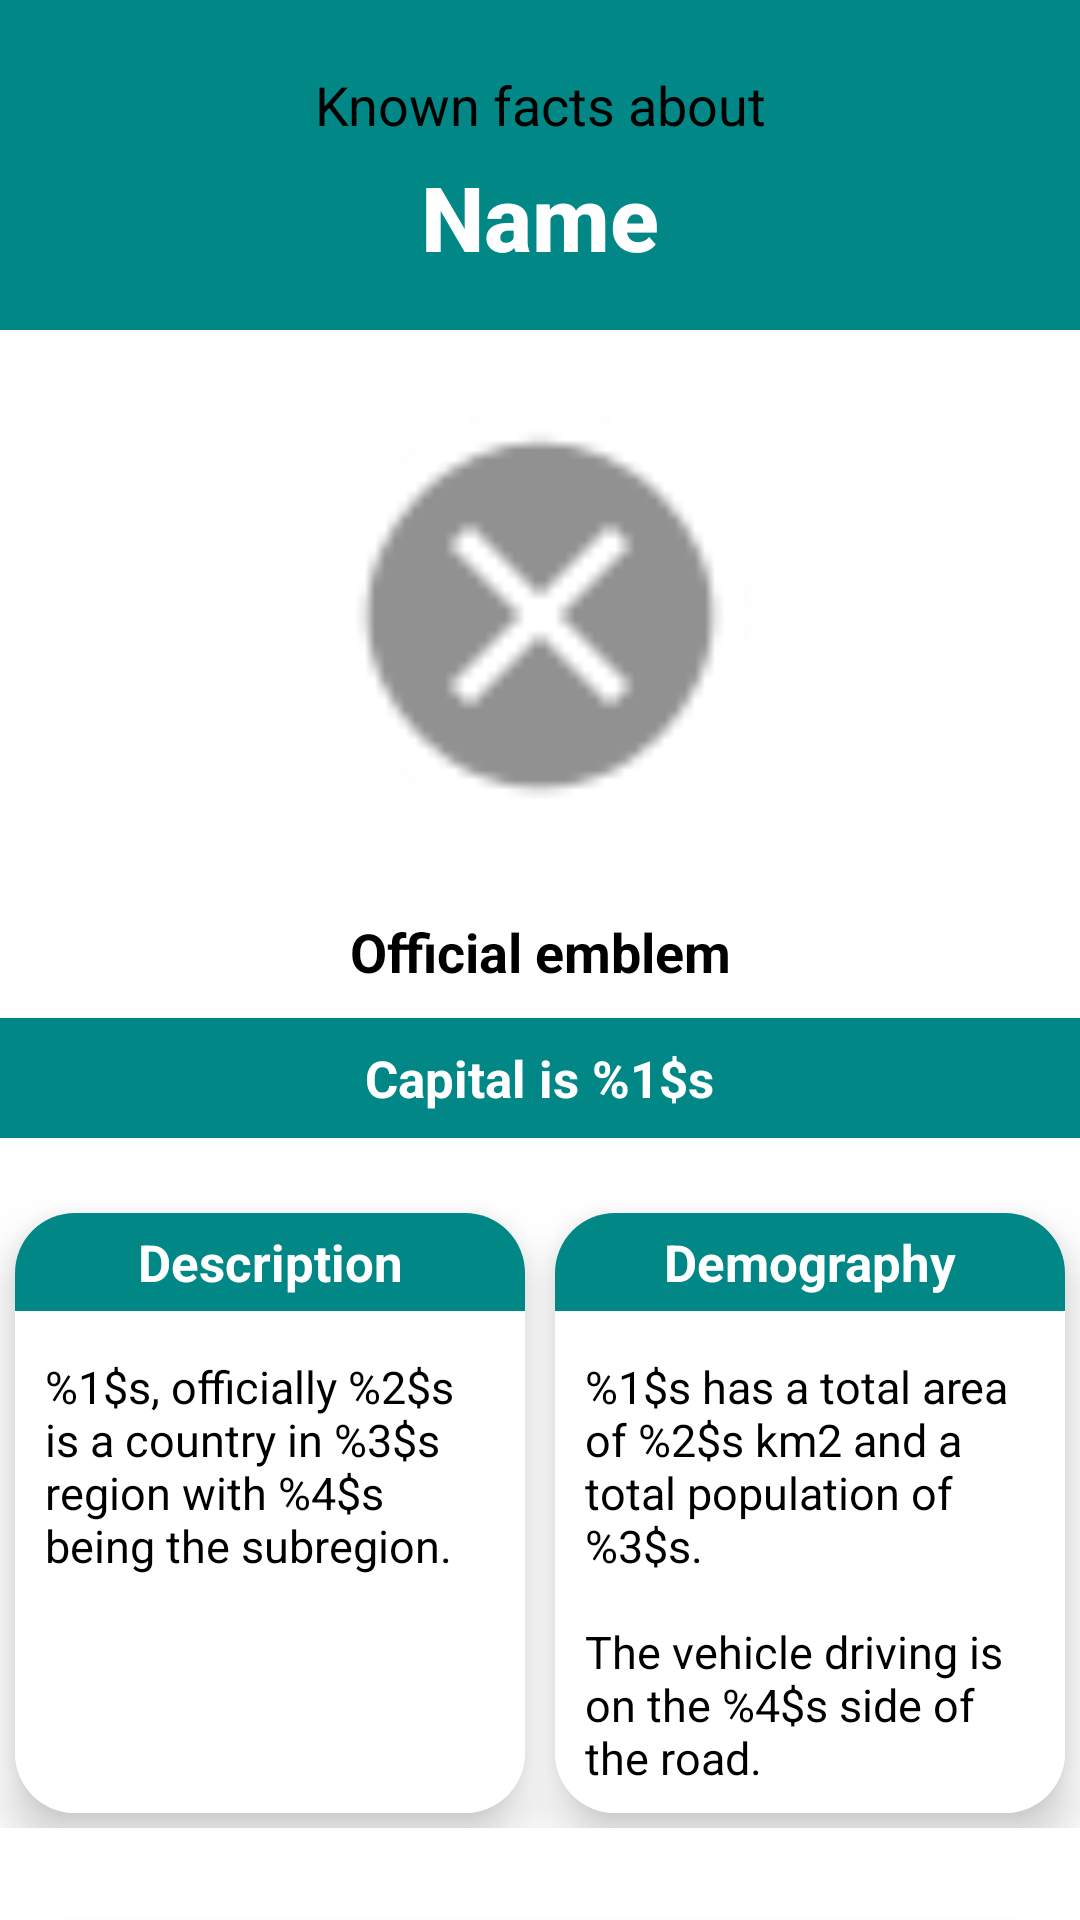

Where icons sit on this 1080w x 1920h app screen, as rect(x1, y1, x2, y2):
presence offline: rect(364, 440, 716, 792)
